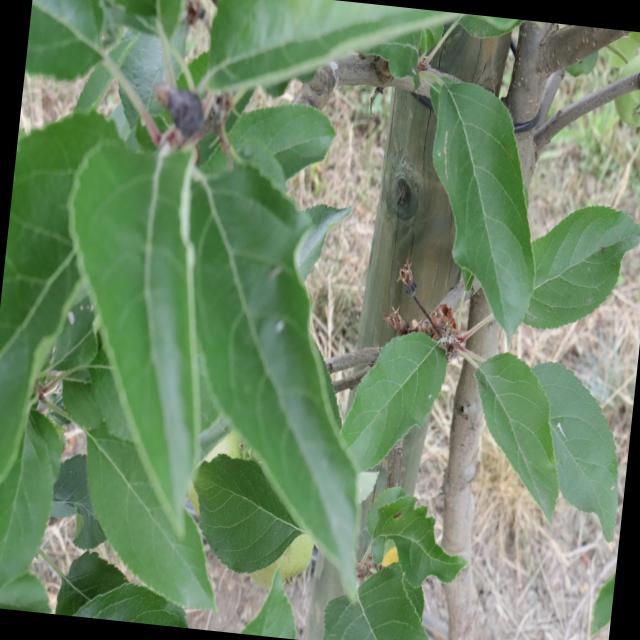-FireBlight-: (405, 297, 458, 337)
